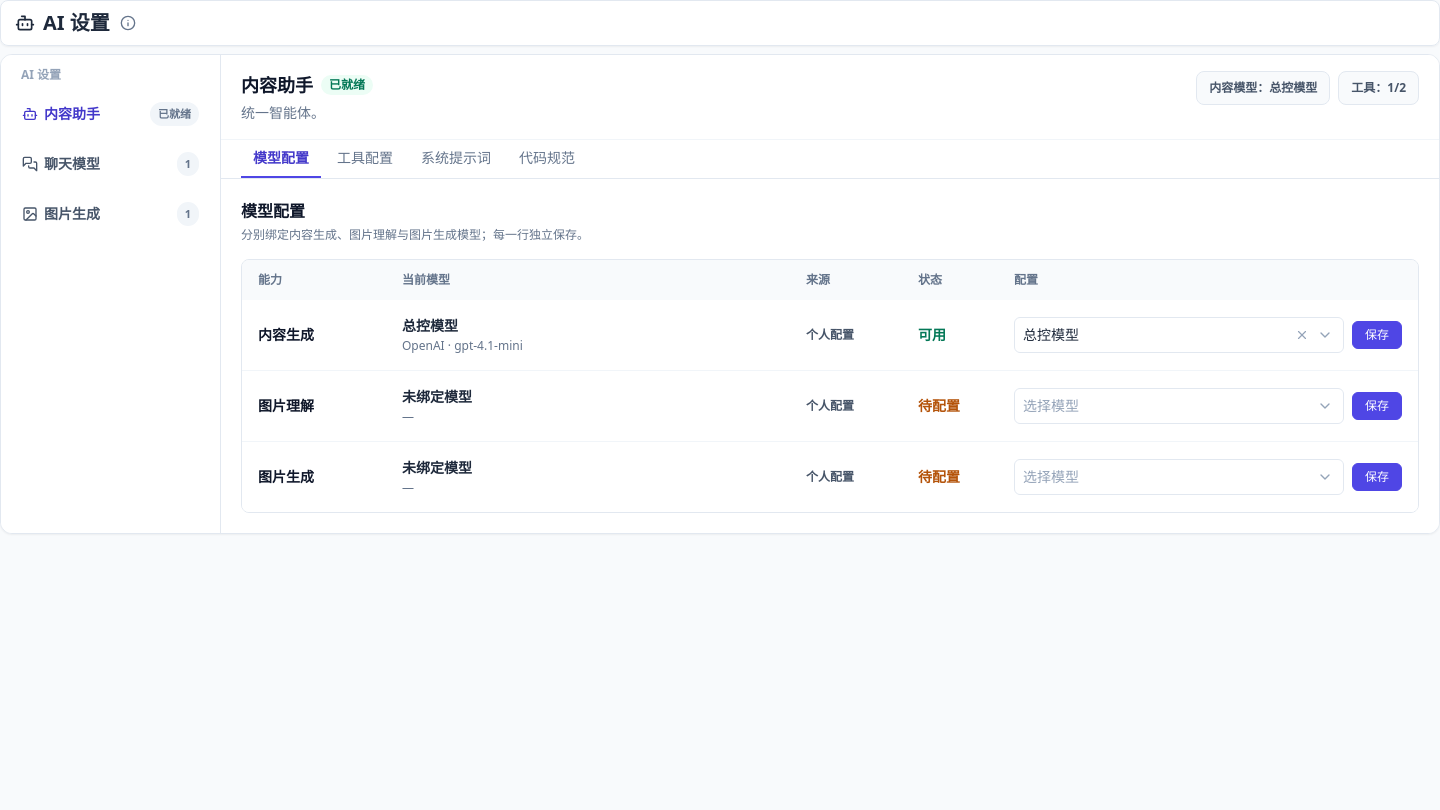
it: AccountAiSettingsView › 聊天与图片页面应隔离列表、筛选和新建表单域
Expected: the heading "内容助手" is shown, [241, 71, 313, 99]
Expected: the text "内容生成" is shown, [242, 300, 386, 370]
Click the button "图片生成 1" at (110, 214), box [9, 191, 212, 237]
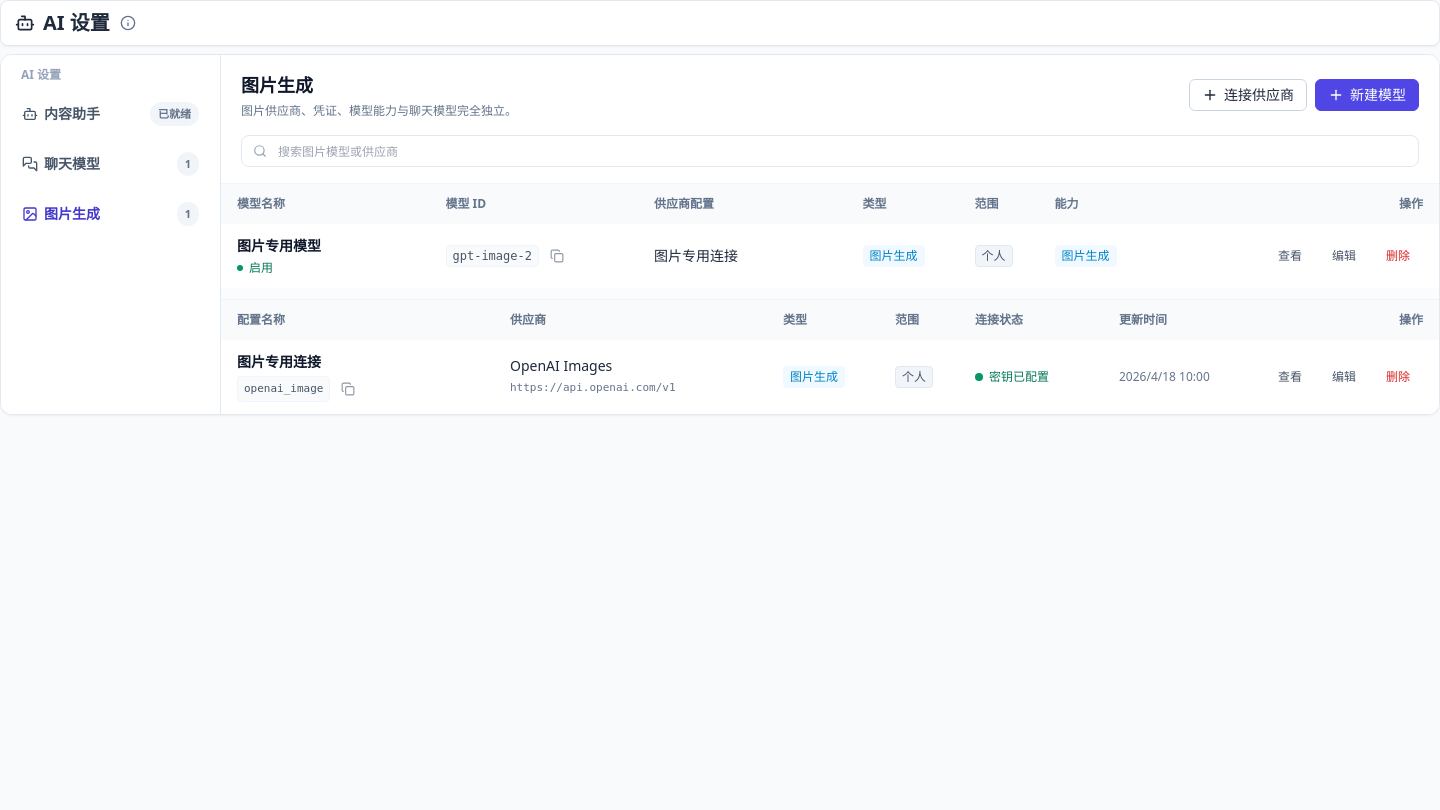
Now the heading "图片生成" is shown, box [241, 73, 313, 97]
Now the cell "总控模型 OpenAI· gpt-4.1-mini" is gone
Click the button "新建模型" at (1367, 95), box [1315, 79, 1419, 111]
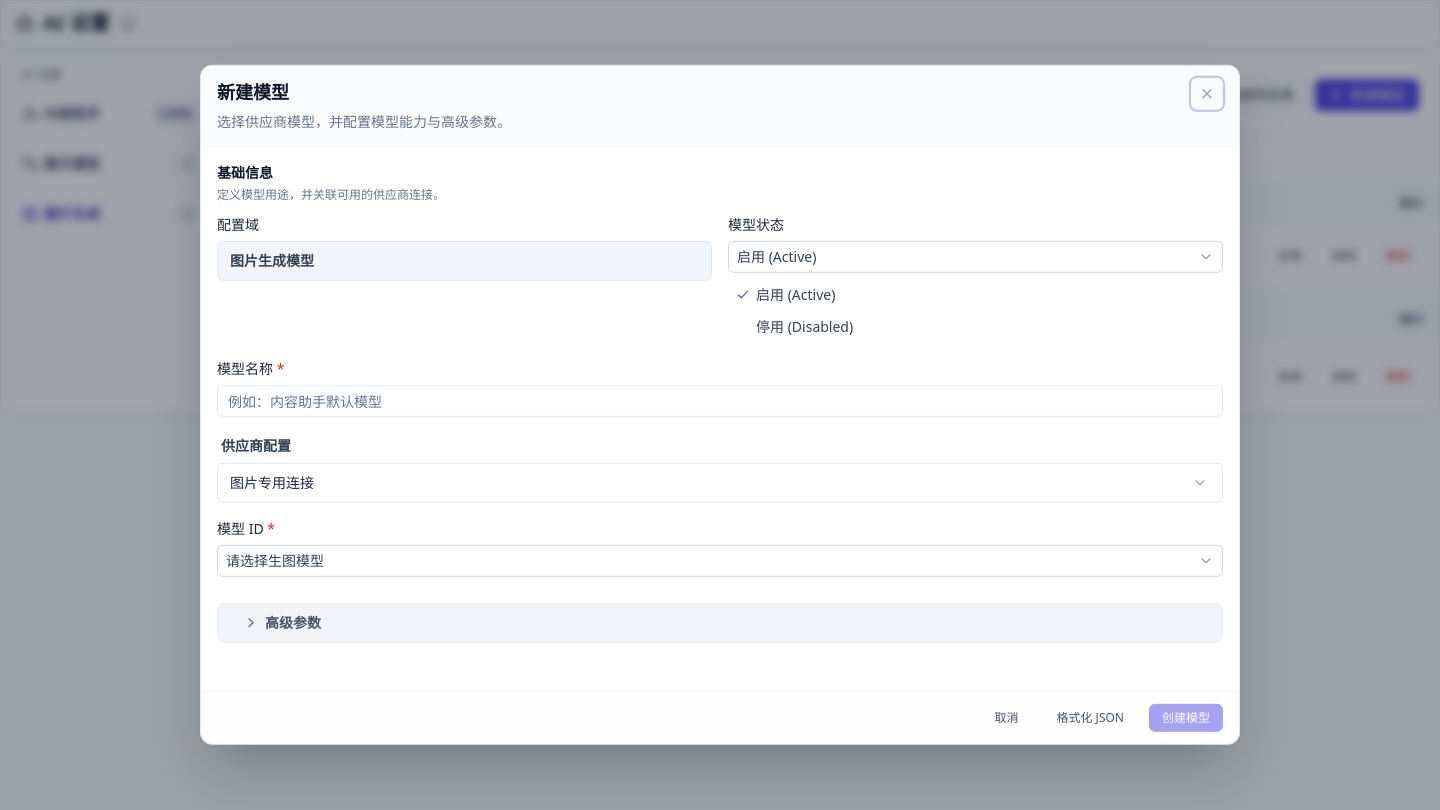
Now the text "图片生成模型" is shown, box [217, 241, 712, 281]
